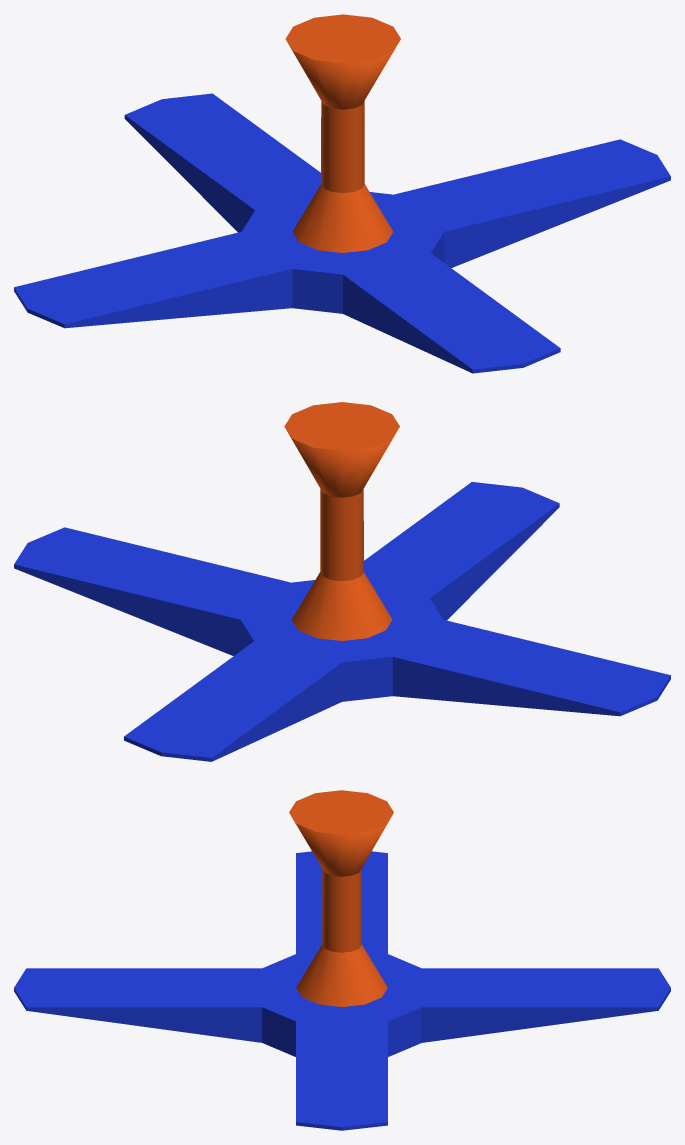
Rendered from fan.fbx.
The picture shows the model from 3 angles, top to bottom: view 1: azimuth 30°, elevation 25°; view 2: azimuth 150°, elevation 25°; view 3: azimuth 270°, elevation 25°; orthographic projection. The views are drawn at different scales.
Parts seen in each view (by area): view 1: Cylinder, Cylinder.001; view 2: Cylinder, Cylinder.001; view 3: Cylinder, Cylinder.001.
Boxes of the visible parts, bbox=[...] form: Cylinder: bbox=[14, 93, 670, 373]; Cylinder.001: bbox=[285, 14, 400, 252]; Cylinder: bbox=[14, 482, 670, 761]; Cylinder.001: bbox=[284, 402, 399, 640]; Cylinder: bbox=[14, 851, 670, 1130]; Cylinder.001: bbox=[289, 790, 393, 1006].
Bounding box in the file's own units: 179 × 63.23 × 178.
